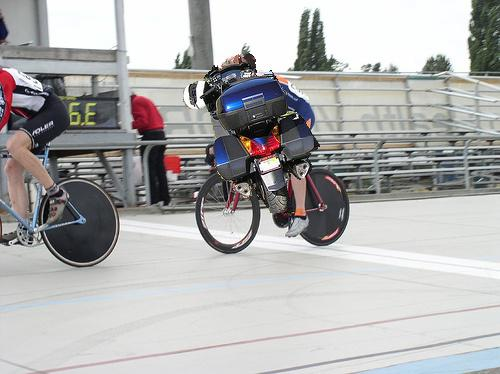tampered: (184, 54, 320, 213)
